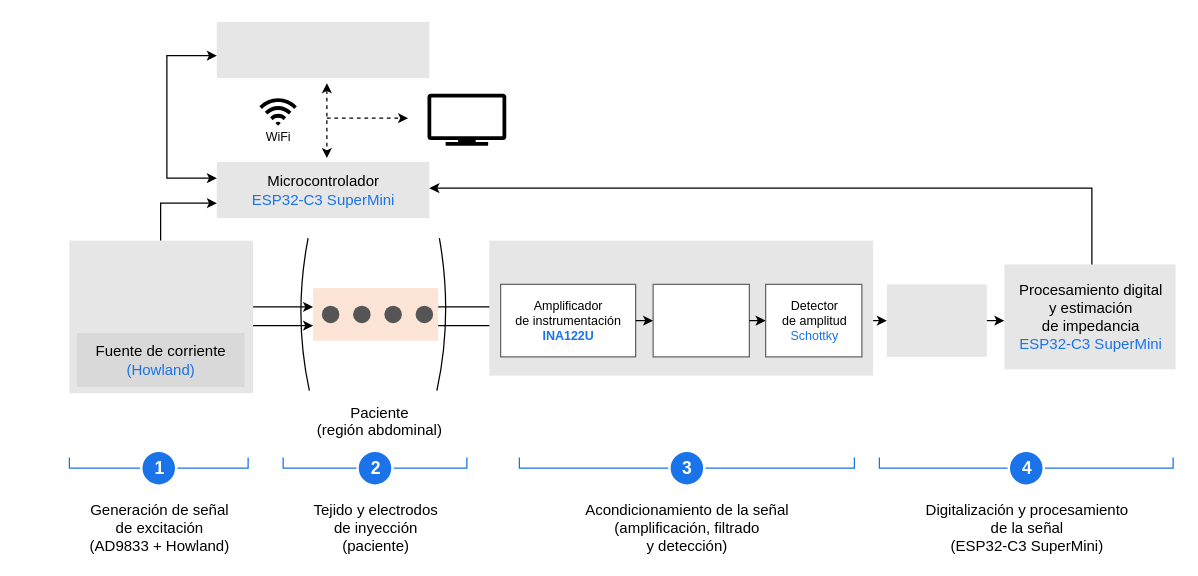
The diagram is 1198 pixels wide and 576 high, and some of its shapes have lost their labels. The shapes that lost their labels are listed below. From the top down, each one's box as (x1, y1, x2, y2) in pixels, then its label:
(216, 21, 429, 78): Interfaz web (GUI)
(69, 240, 252, 392): Generador de señal de excitación AD9833 (50 kHz)
(489, 240, 872, 375): Acondicionamiento de la señal
(652, 283, 749, 357): Filtrado analógico y ganancia
(886, 284, 986, 356): ADC (ESP32-C3 SuperMini)
